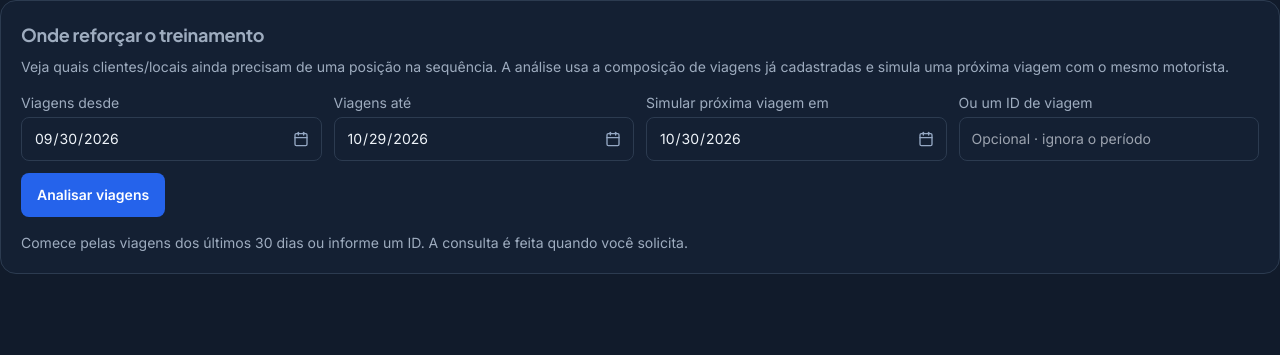
falha é explícita e não apresenta cobertura zero ou todas as rotas treinadas
Click the button "Analisar viagens" at (93, 195), box [21,173,165,217]
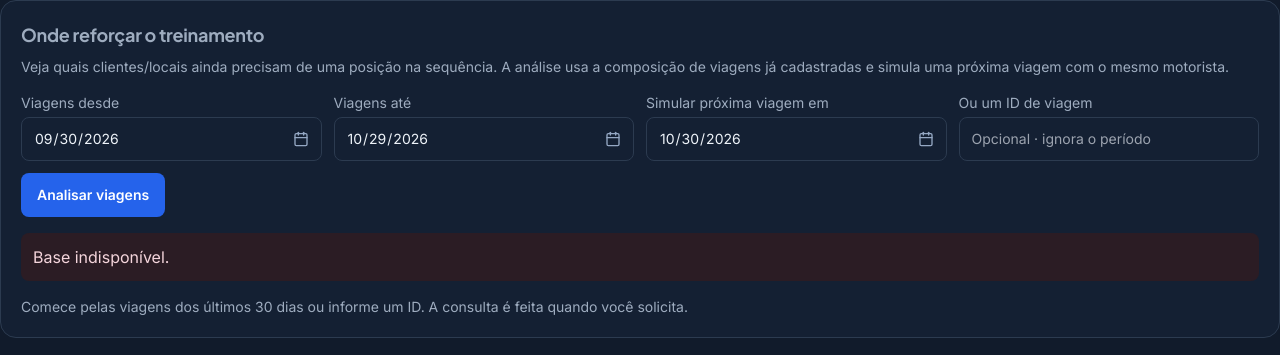
Expected: the text "Base indisponível." is shown, [21,233,1259,281]
